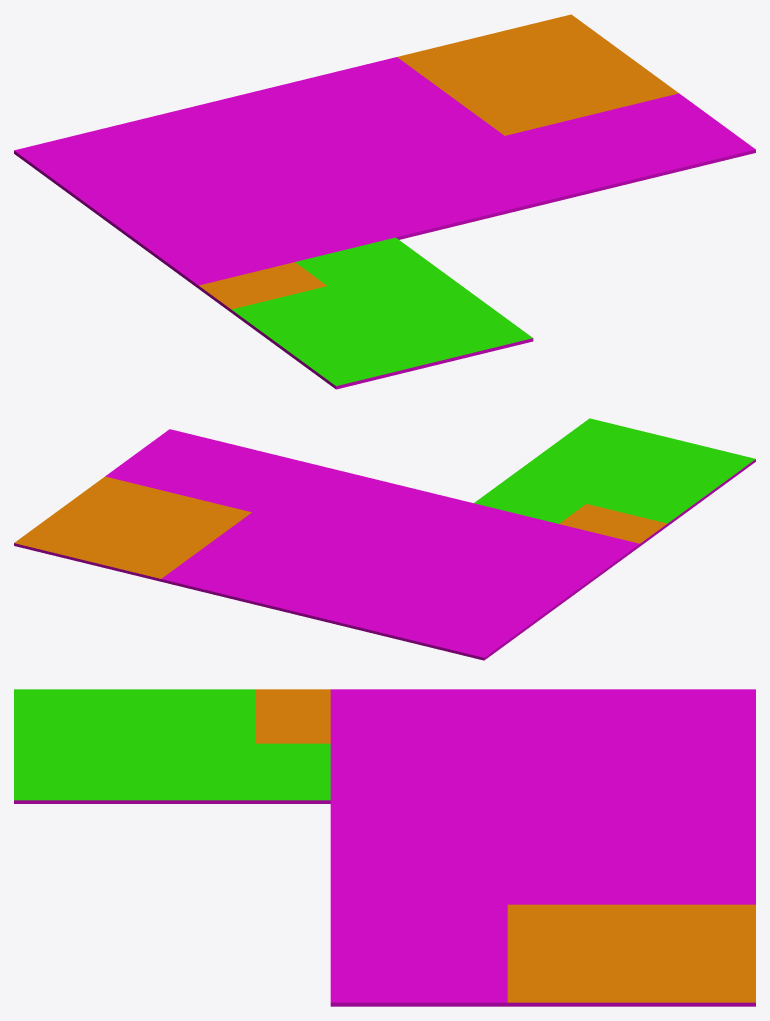
File: BH07B_Floor_01.fbx
The picture shows the model from 3 angles, top to bottom: view 1: azimuth 30°, elevation 25°; view 2: azimuth 150°, elevation 25°; view 3: azimuth 270°, elevation 25°; orthographic projection. The views are drawn at different scales.
Parts seen in each view (by area): view 1: BH07B_Floor_01; view 2: BH07B_Floor_01; view 3: BH07B_Floor_01.
Boxes of the visible parts, x1,y1,x2,y2 form: BH07B_Floor_01: (14,14,755,389); BH07B_Floor_01: (14,418,755,660); BH07B_Floor_01: (14,689,755,1006).
Size of the model in its own units: 1398 by 8.05 by 1399.
